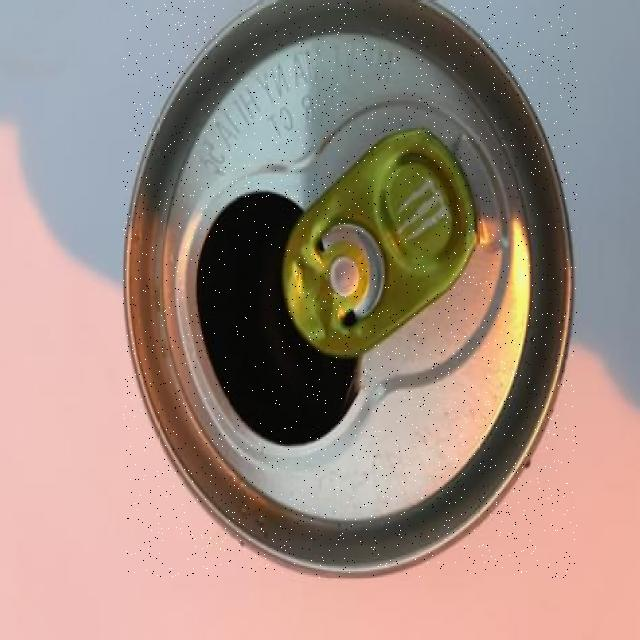metal: (124, 1, 577, 578)
